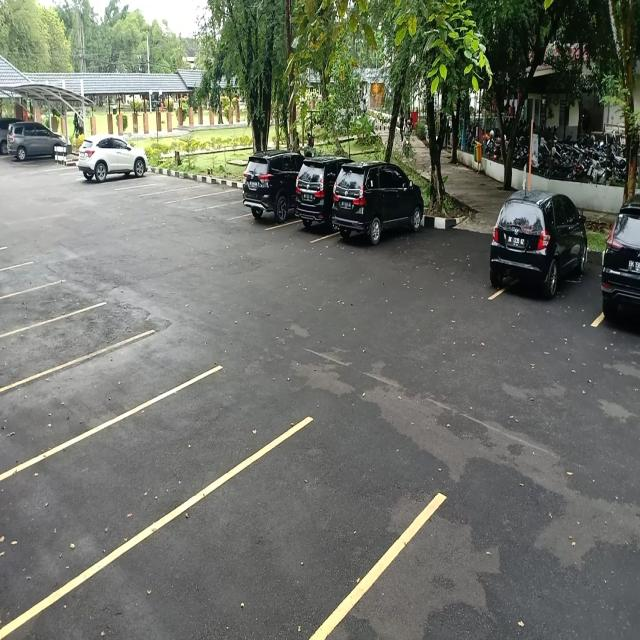occupied: (489, 223, 590, 310), (241, 154, 296, 231), (292, 158, 332, 242)
